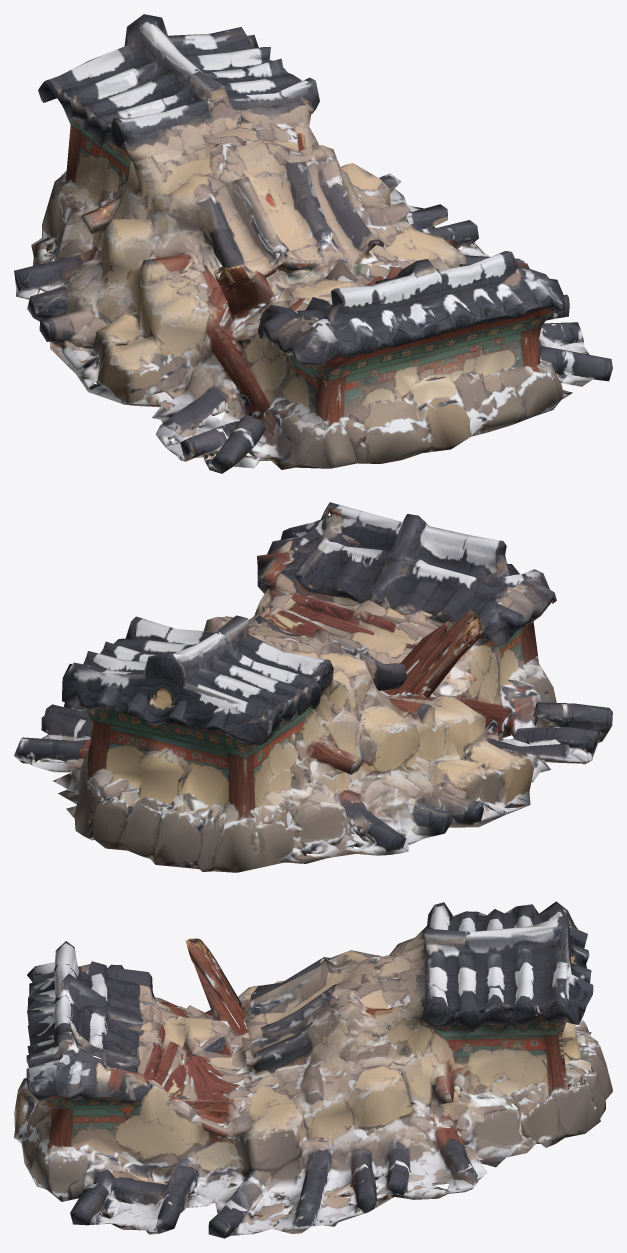
The model's file is PR_WallRubble.fbx.
The picture shows the model from 3 angles, top to bottom: view 1: azimuth 30°, elevation 25°; view 2: azimuth 150°, elevation 25°; view 3: azimuth 270°, elevation 25°; orthographic projection. The views are drawn at different scales.
Parts seen in each view (by area): view 1: texture_mapping; view 2: texture_mapping; view 3: texture_mapping.
Part boxes in pixels (x1,y1,x2,y2): texture_mapping: (14,14,612,473); texture_mapping: (14,502,612,872); texture_mapping: (14,901,612,1238).
Bounding box in the file's own units: 0.8173 × 0.9785 × 0.4353.
Materials: 1 (1 with a texture image).
